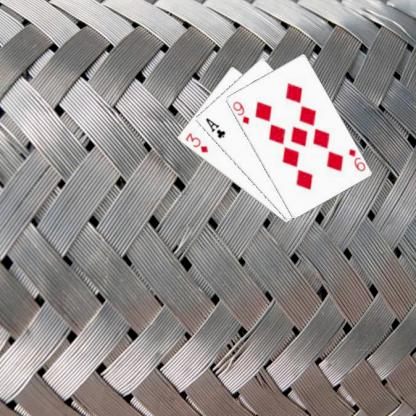3D: (182, 130, 210, 154)
9D: (230, 98, 250, 125), (346, 146, 366, 172)
AC: (202, 115, 226, 139)
